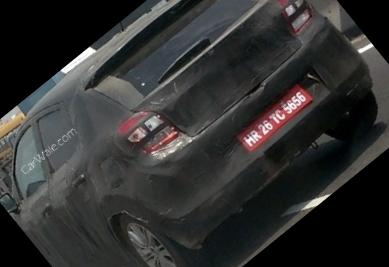plate: (225, 73, 321, 159)
